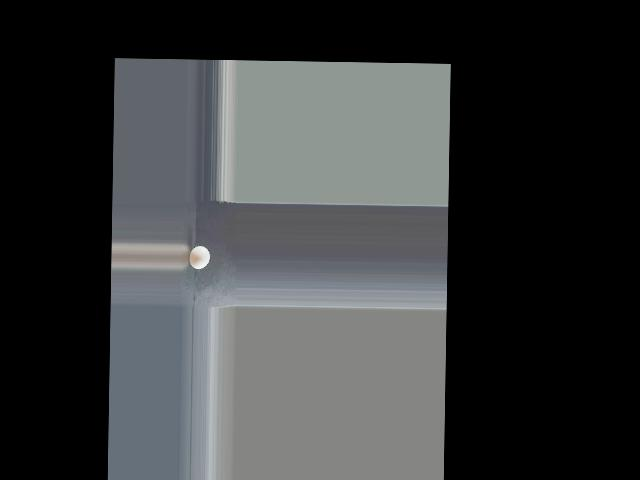egg: (189, 246, 210, 269)
